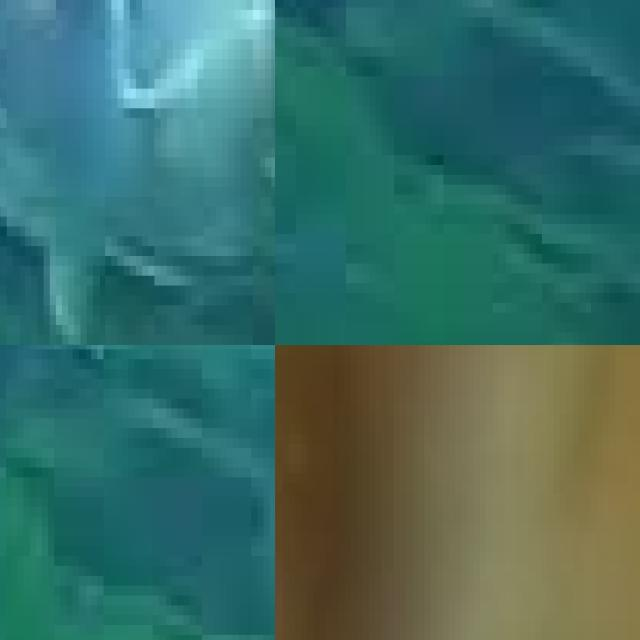fish: (0, 0, 275, 345), (275, 345, 418, 640)
